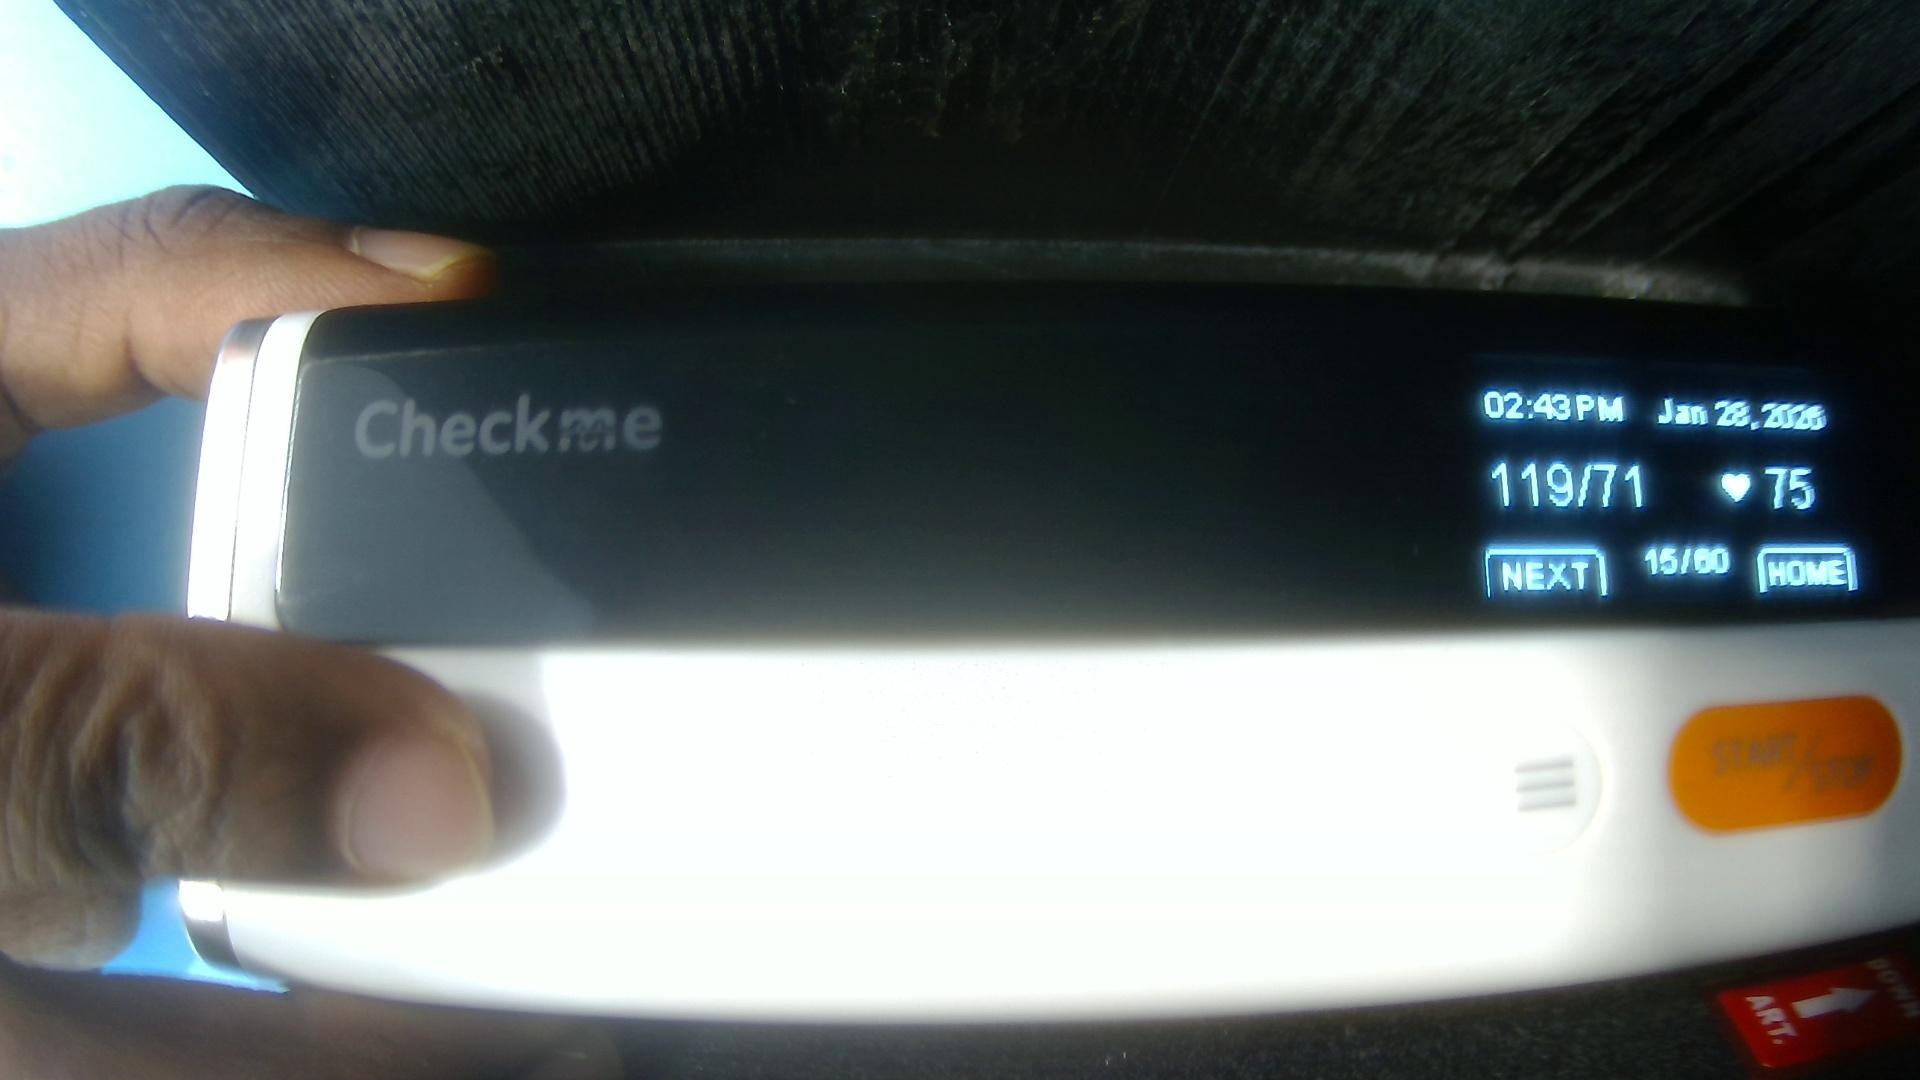DISPLAY: (297, 320, 1909, 636)
